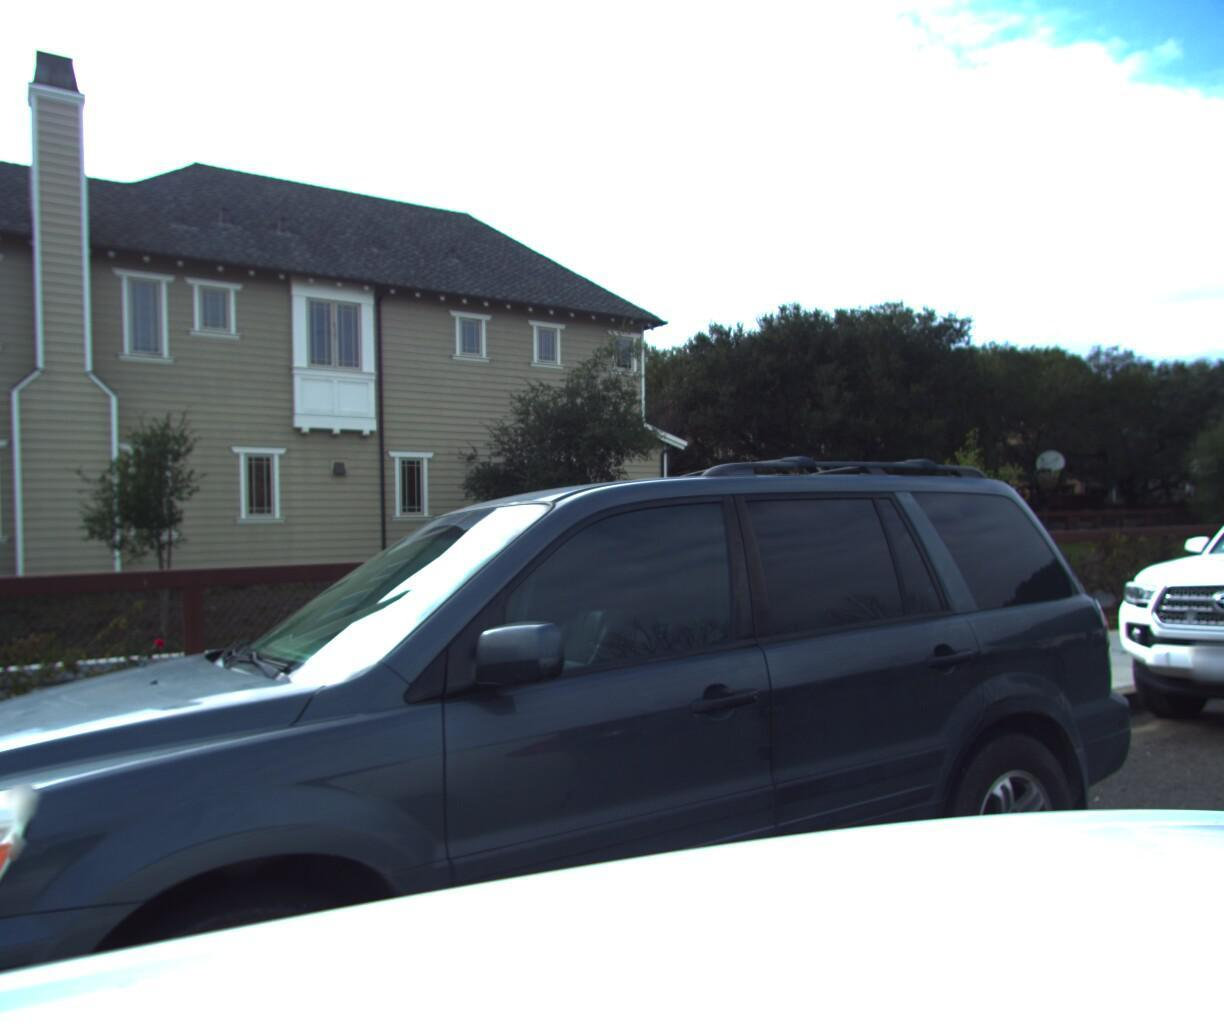car: (0, 347, 1205, 1024), (1089, 457, 1224, 796)
